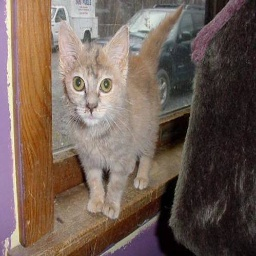cat: (58, 3, 189, 218)
